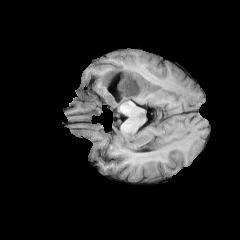glioma: (100, 67, 147, 104)
